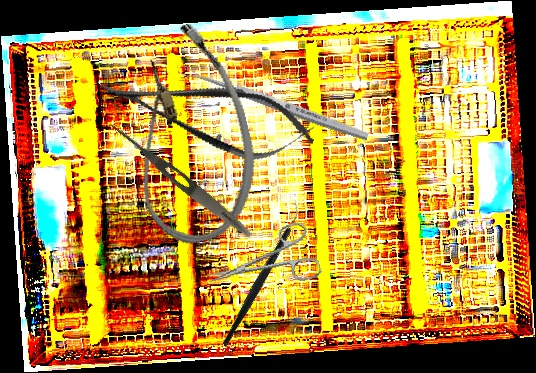Cannula: (105, 15, 273, 253)
Chopper: (182, 199, 339, 348)
Dressing Forceps: (104, 118, 256, 242)
Iris Scissors: (200, 219, 323, 305)
Micro Scissor: (92, 52, 322, 175)
Surgical Spoon: (179, 63, 370, 143)
